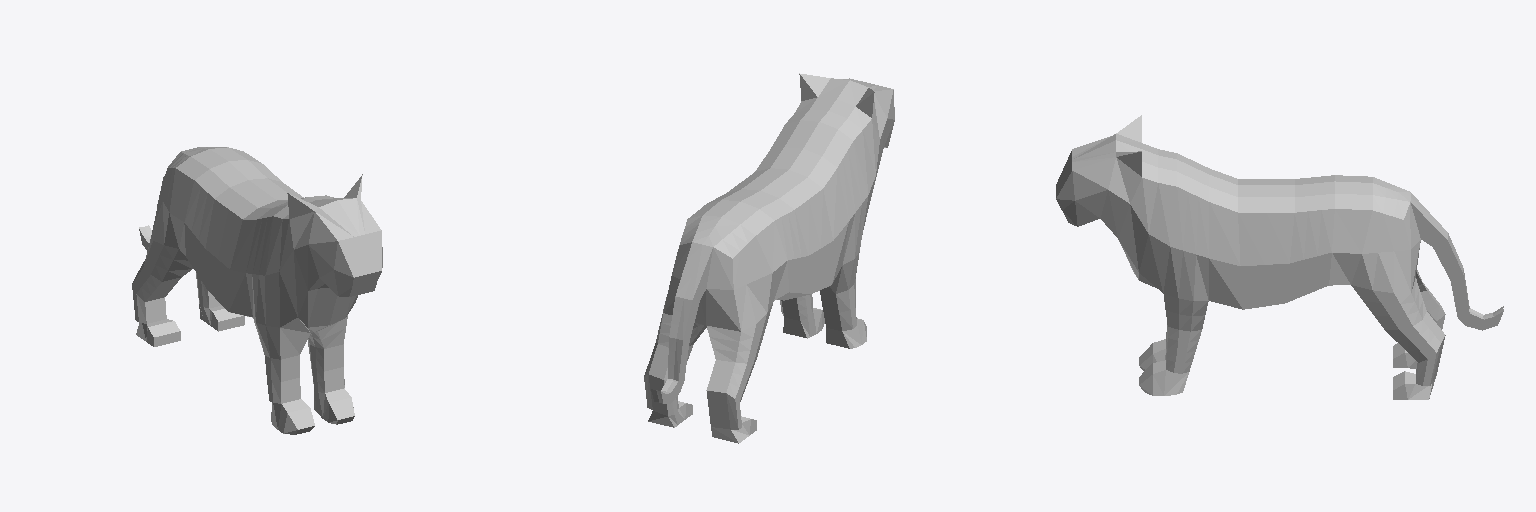
File: tiger.obj
3 views of the same model, side by side, from view 1: azimuth 30°, elevation 25°; view 2: azimuth 150°, elevation 25°; view 3: azimuth 270°, elevation 25° (orthographic).
Parts seen in each view (by area): view 1: Tiger_Plane; view 2: Tiger_Plane; view 3: Tiger_Plane.
Boxes of the visible parts, box(x1,y1,x2,y2) form: Tiger_Plane: box(132, 147, 382, 434); Tiger_Plane: box(644, 73, 894, 443); Tiger_Plane: box(1056, 115, 1503, 399).
Bounding box in the file's own units: 0.4356 × 1.12 × 1.85.